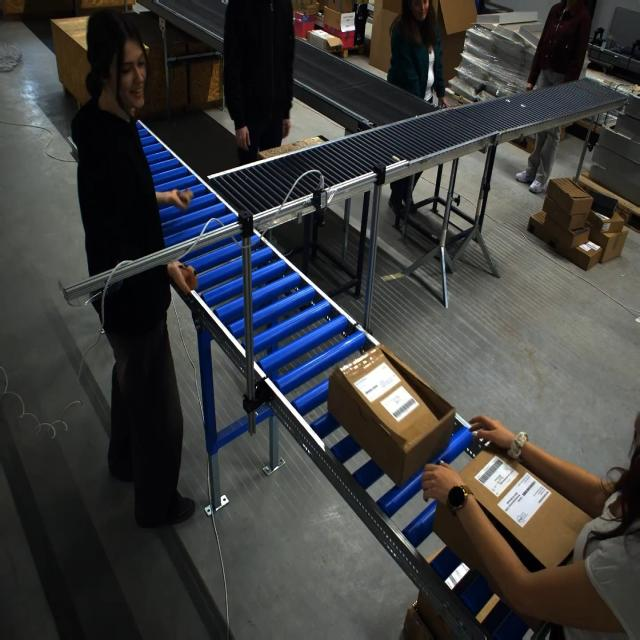box: (438, 440, 591, 577), (336, 364, 445, 478)
